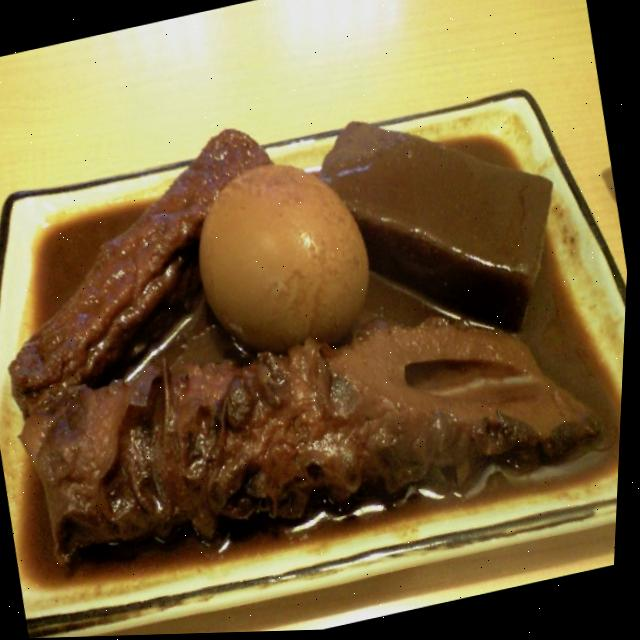汤锅炖物: (0, 52, 633, 590)
